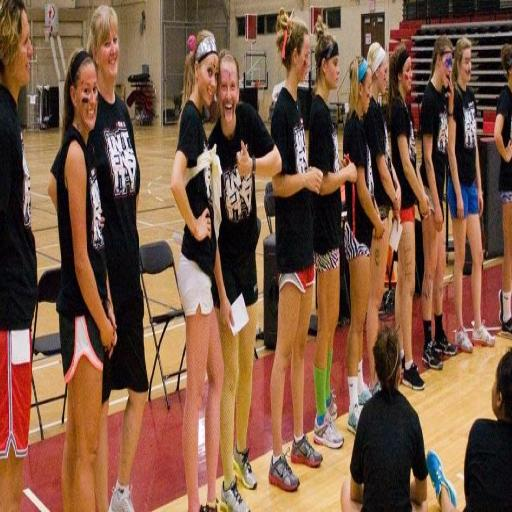person: (209, 50, 280, 511), (88, 5, 148, 511), (52, 50, 116, 510), (171, 31, 232, 511), (269, 9, 322, 491), (309, 19, 356, 448), (0, 0, 37, 510), (341, 328, 428, 511), (344, 57, 384, 433), (447, 38, 494, 352), (389, 45, 429, 390), (364, 42, 401, 394), (420, 36, 456, 369), (464, 349, 511, 511), (494, 45, 511, 335)
